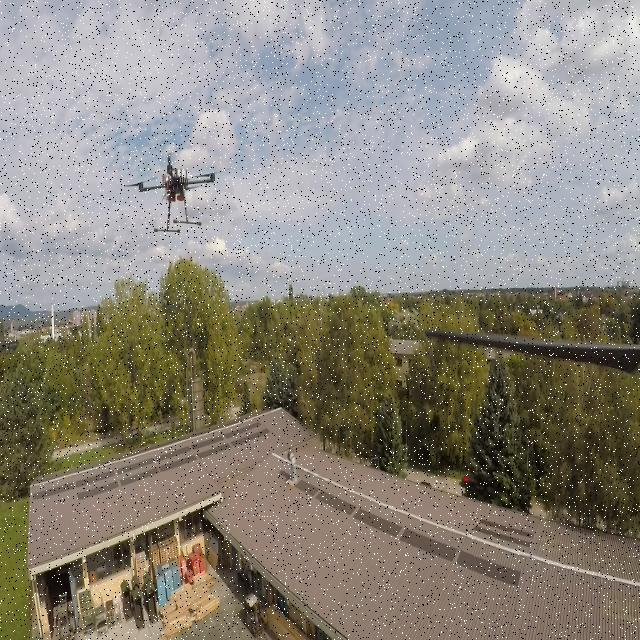UAV: (122, 150, 236, 238)
